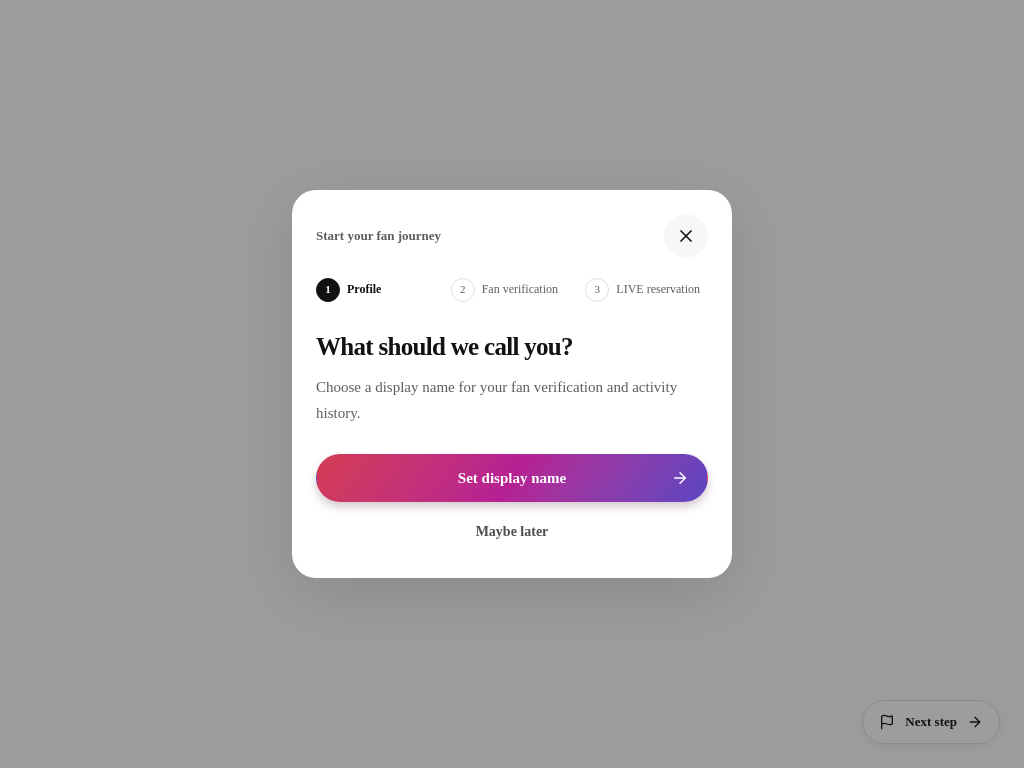
fan next-action guide › renders English and remains usable when session storage is unavailable
Click the button "Maybe later" at (512, 532), box [316,510,708,554]
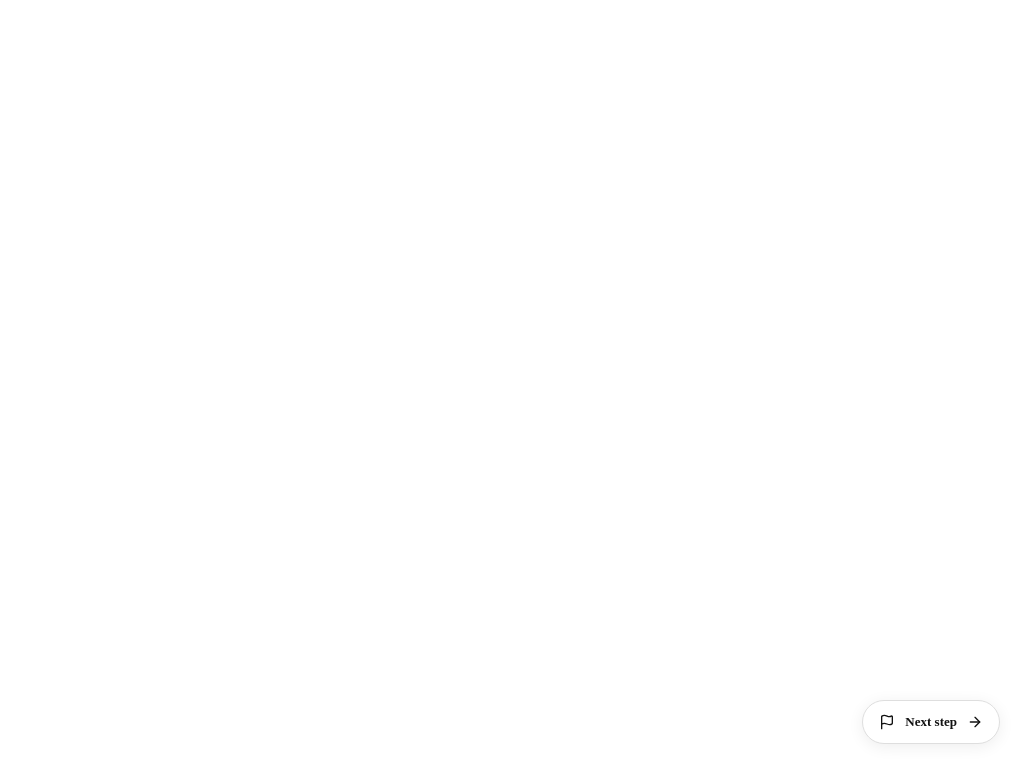
Expected: the dialog is gone
